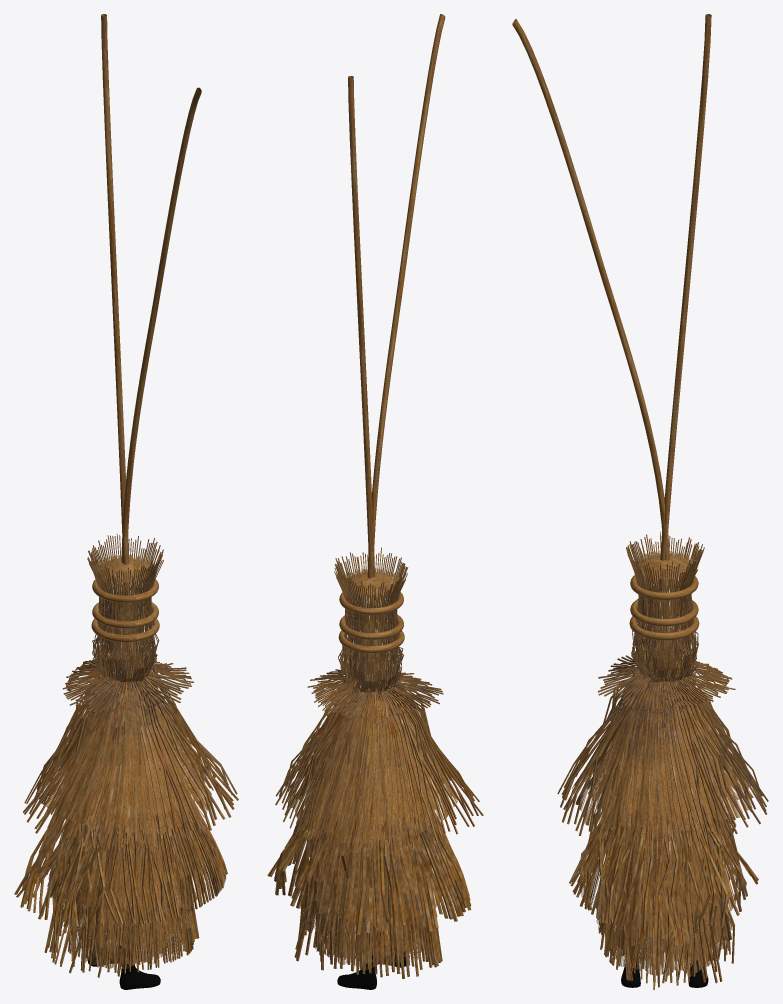
Rendered from shab.glb.
3 views of the same model, side by side, from view 1: azimuth 30°, elevation 25°; view 2: azimuth 150°, elevation 25°; view 3: azimuth 270°, elevation 25° (orthographic). The views are drawn at different scales.
Visible parts, largest first — view 1: Austrian_Shab, BODY_RIG; view 2: Austrian_Shab, BODY_RIG; view 3: Austrian_Shab, BODY_RIG.
Part boxes in pixels (x1,y1,x2,y2): Austrian_Shab: (14,14,238,977); BODY_RIG: (87,628,160,989); Austrian_Shab: (267,14,483,978); BODY_RIG: (337,640,406,989); Austrian_Shab: (512,14,768,989); BODY_RIG: (621,627,708,987).
Bounding box in the file's own units: 1.1 × 4.99 × 1.2.
4 materials, 4 textured.
